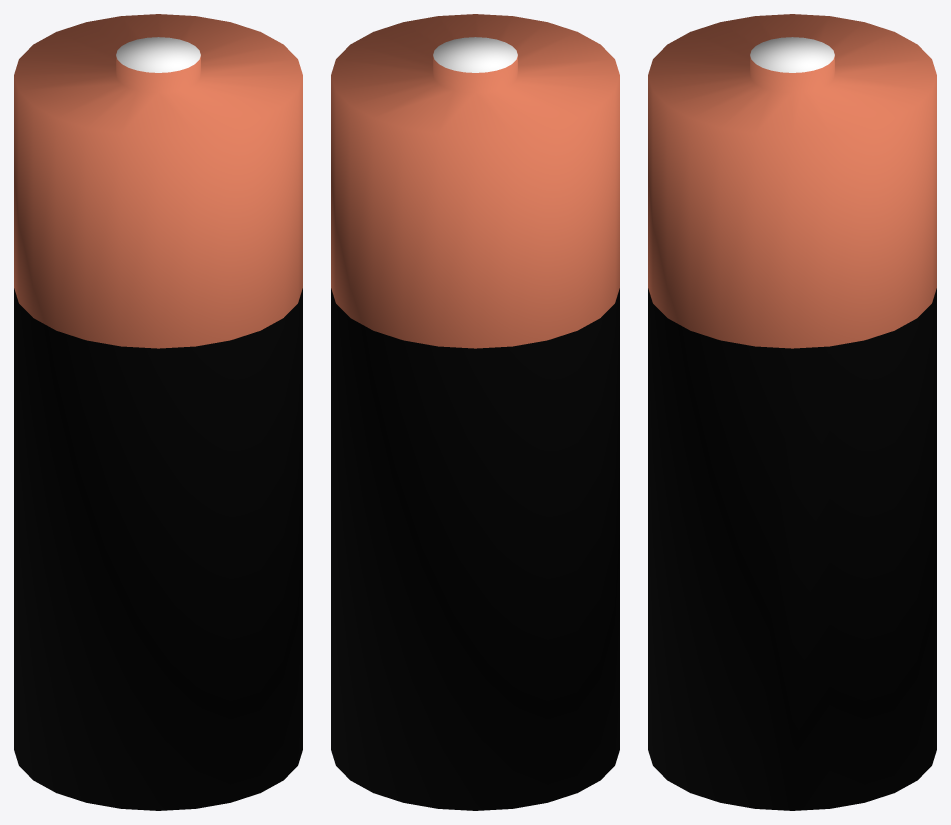
The model's file is battery3.obj.
3 views of the same model, side by side, from view 1: azimuth 30°, elevation 25°; view 2: azimuth 150°, elevation 25°; view 3: azimuth 270°, elevation 25° (orthographic).
Parts seen in each view (by area): view 1: Cylinder.003; view 2: Cylinder.003; view 3: Cylinder.003.
Boxes of the visible parts, x1,y1,x2,y2 form: Cylinder.003: [14, 14, 302, 810]; Cylinder.003: [331, 14, 619, 810]; Cylinder.003: [648, 14, 936, 810].
Bounding box in the file's own units: 0.3207 × 0.8491 × 0.32.
1 material, 1 textured.
